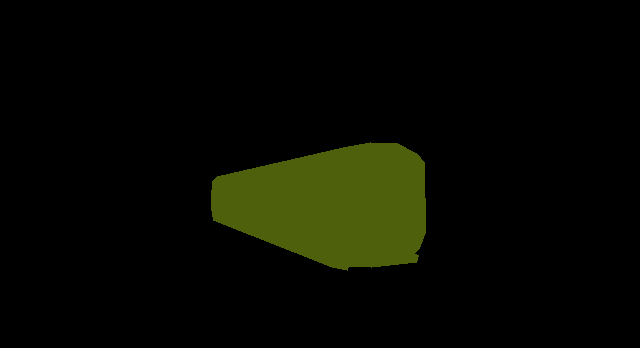Train: (211, 142, 426, 271)
